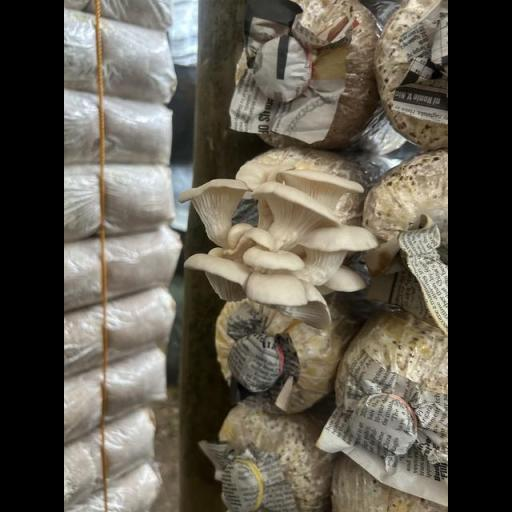White Oyster Mushroom: (170, 151, 390, 330)
